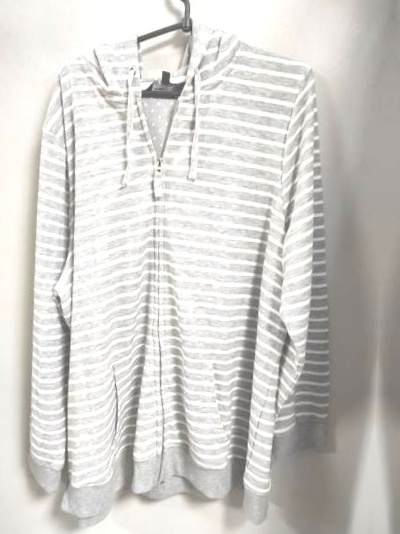Hoodie: (10, 5, 341, 518)
